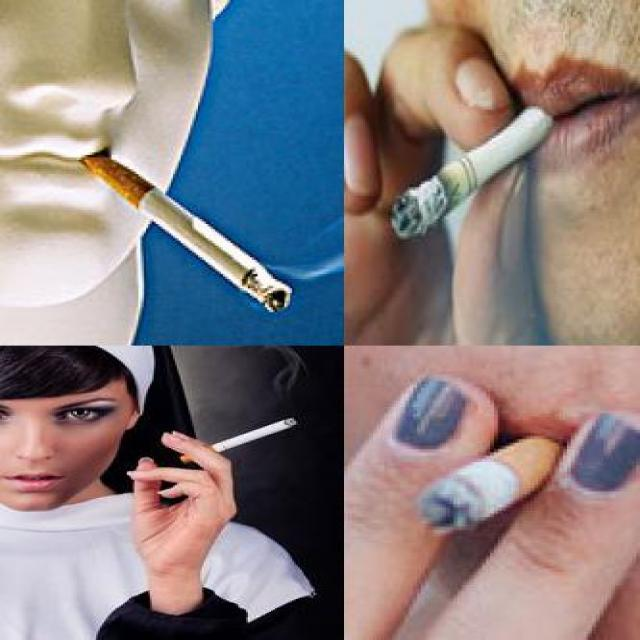smoke: (77, 150, 290, 312), (386, 104, 563, 242), (419, 434, 565, 532), (180, 418, 297, 463)
